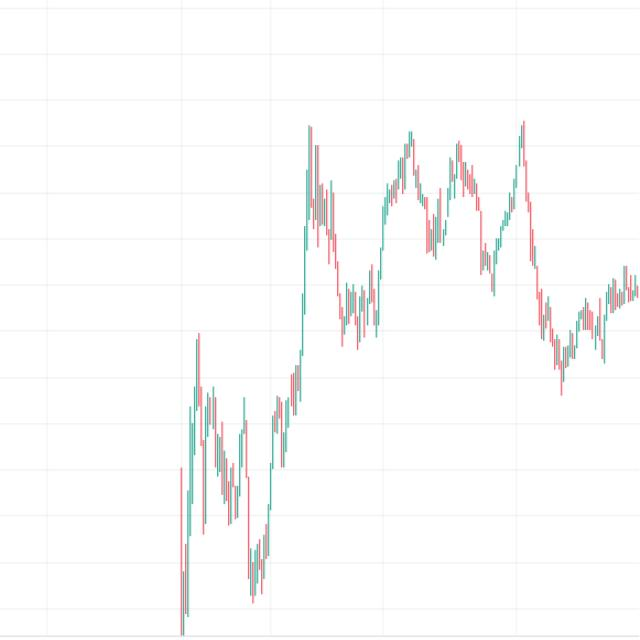Triple-Bottom: (331, 273, 391, 351)
Triple-Top: (369, 117, 545, 271)
